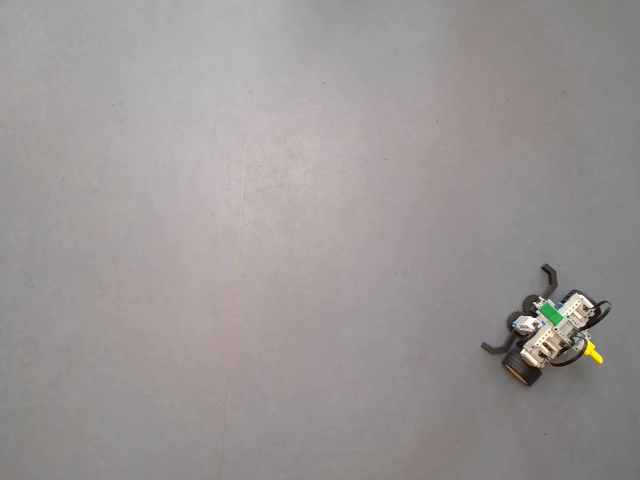green: (538, 300, 562, 324)
robot: (479, 261, 612, 387)
yellow: (578, 339, 602, 363)
